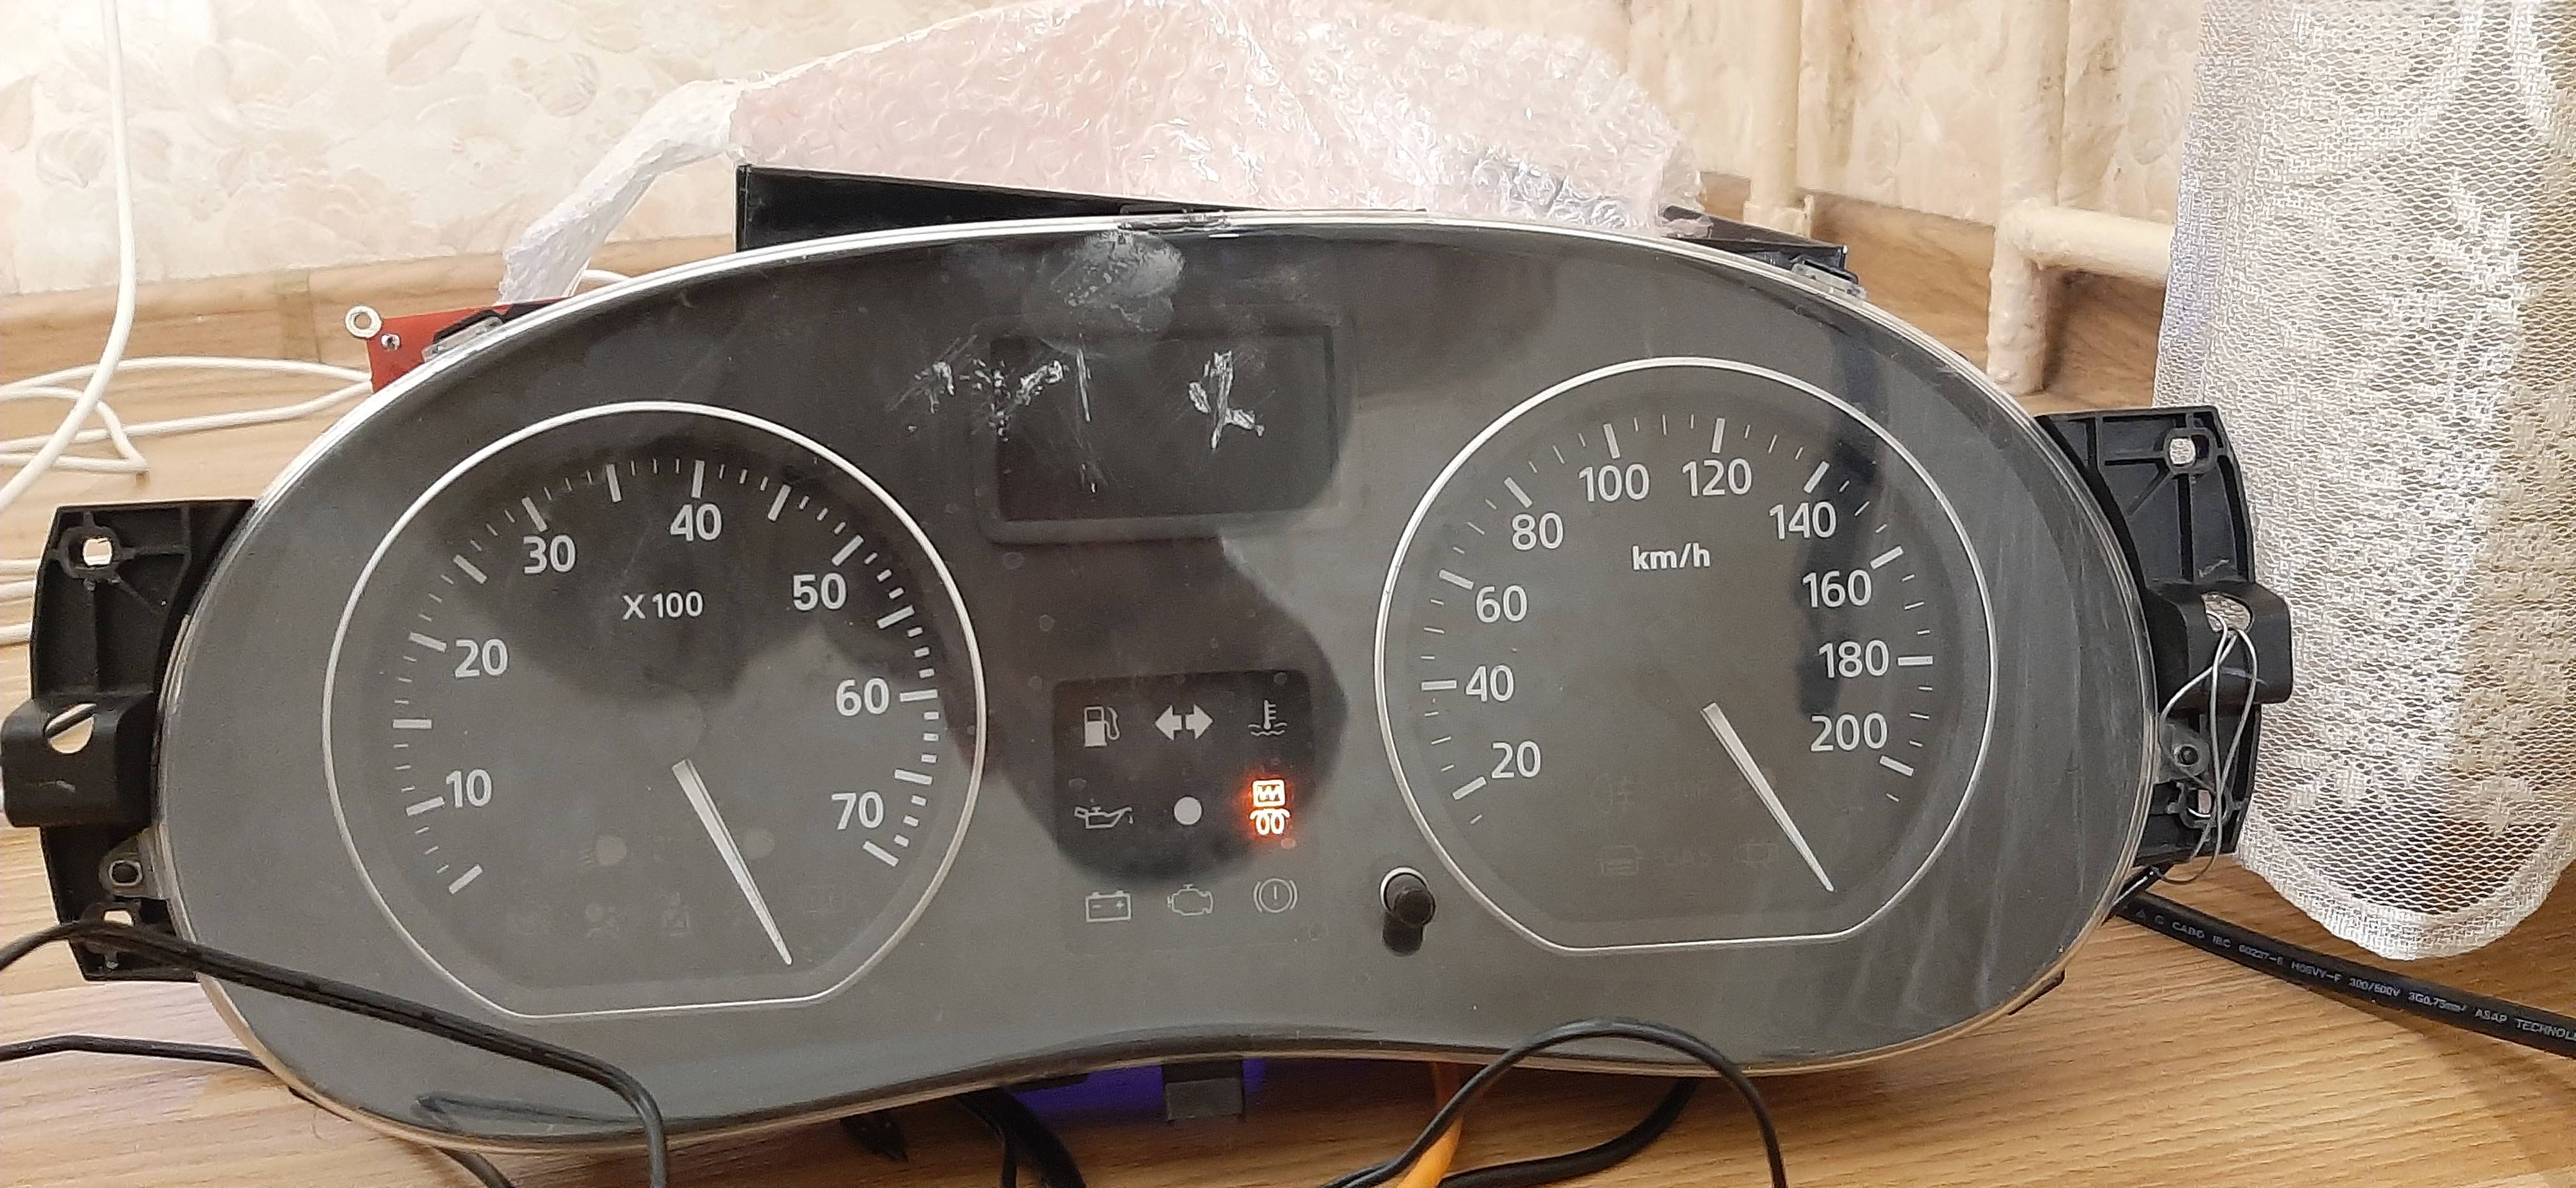diesel2: (1245, 779, 1295, 838)
